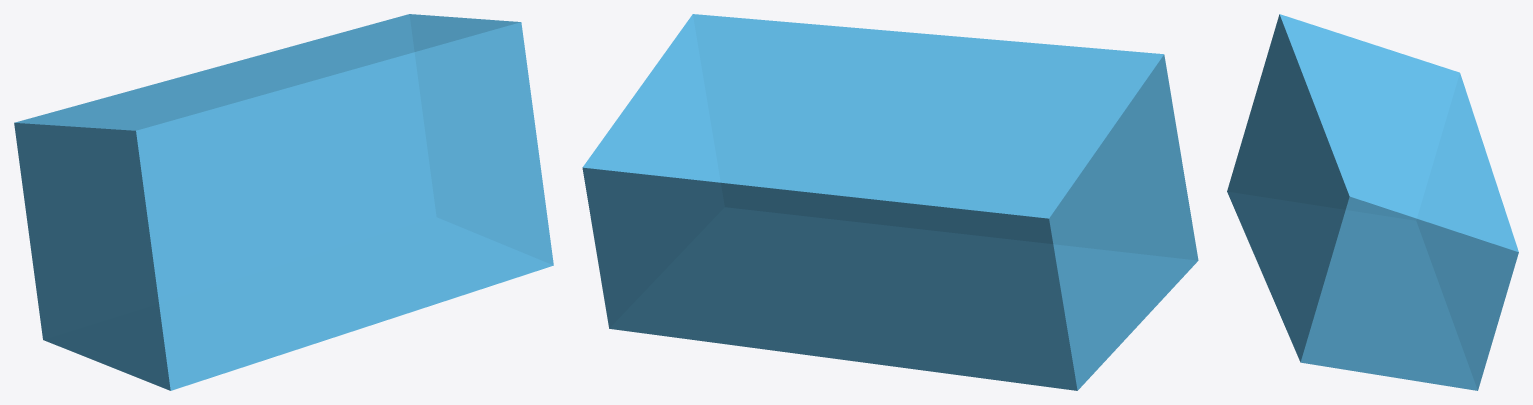
The model's file is Event_420604493_HErechit_6.fbx.
3 views of the same model, side by side, from view 1: azimuth 30°, elevation 25°; view 2: azimuth 150°, elevation 25°; view 3: azimuth 270°, elevation 25° (orthographic). The views are drawn at different scales.
Visible parts, largest first — view 1: Model; view 2: Model; view 3: Model.
Boxes of the visible parts, x1,y1,x2,y2 form: Model: [14, 14, 553, 390]; Model: [582, 14, 1198, 390]; Model: [1227, 14, 1518, 390].
Size of the model in its own units: 0.7017 by 0.4444 by 0.5402.
